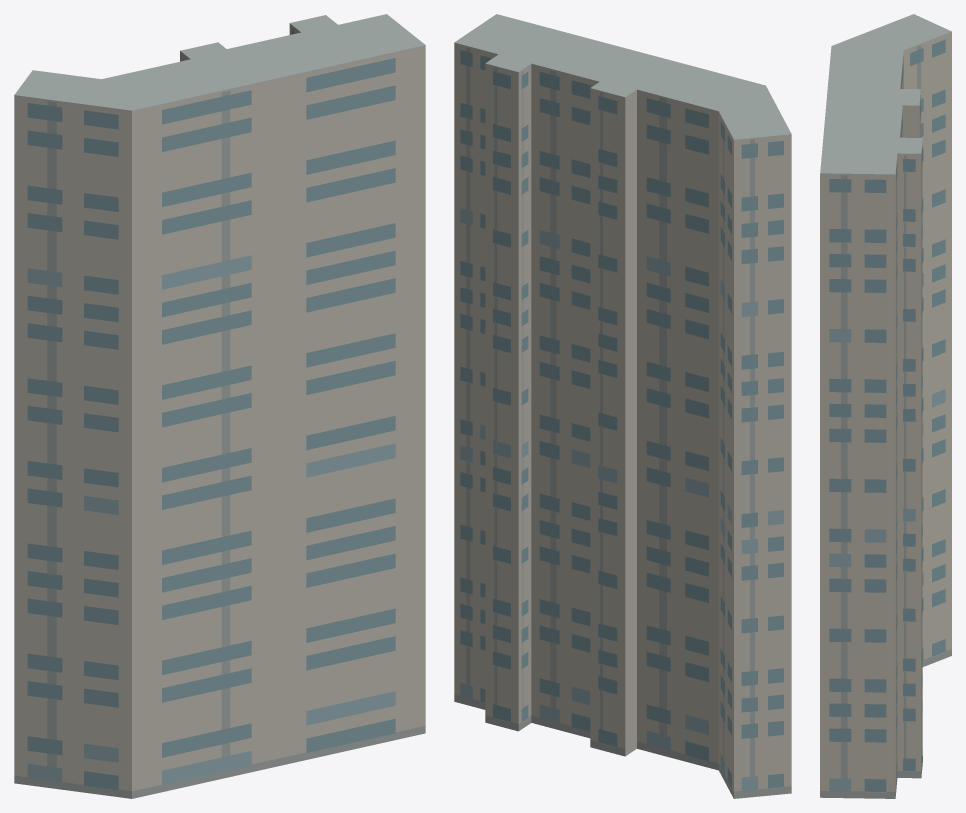
Rendered from residential-5fd91e05-a844-4b13-a366-757f6b517370.glb.
3 views of the same model, side by side, from view 1: azimuth 30°, elevation 25°; view 2: azimuth 150°, elevation 25°; view 3: azimuth 270°, elevation 25° (orthographic). The views are drawn at different scales.
Parts seen in each view (by area): view 1: residential-5fd91e05-a844-4b13-a366-757f6b517370.tmp; view 2: residential-5fd91e05-a844-4b13-a366-757f6b517370.tmp; view 3: residential-5fd91e05-a844-4b13-a366-757f6b517370.tmp.
Boxes of the visible parts, x1,y1,x2,y2 form: residential-5fd91e05-a844-4b13-a366-757f6b517370.tmp: (14, 14, 425, 798); residential-5fd91e05-a844-4b13-a366-757f6b517370.tmp: (454, 14, 791, 798); residential-5fd91e05-a844-4b13-a366-757f6b517370.tmp: (820, 14, 951, 798).
Bounding box in the file's own units: 51.82 × 94 × 17.98.
